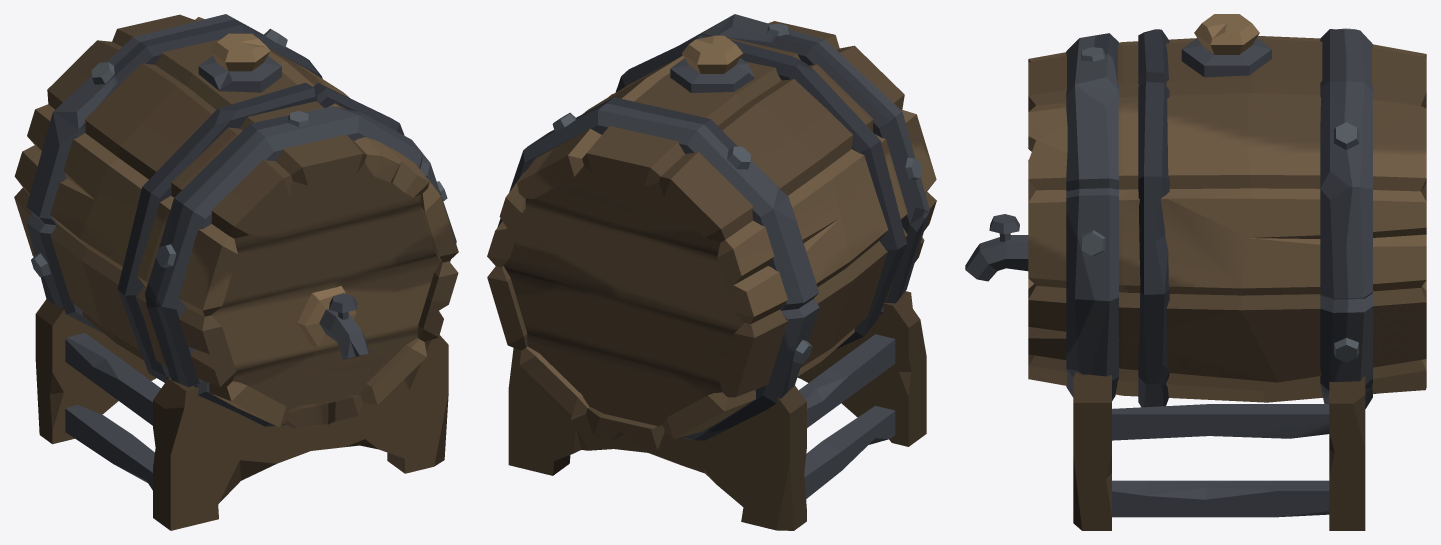
Rendered from SM_Prop_Barrel_05.fbx.
3 renders of one model, left to right at view 1: azimuth 30°, elevation 25°; view 2: azimuth 150°, elevation 25°; view 3: azimuth 270°, elevation 25°, orthographic. The views are drawn at different scales.
Parts seen in each view (by area): view 1: SM_Prop_Barrel_05; view 2: SM_Prop_Barrel_05; view 3: SM_Prop_Barrel_05.
Part boxes in pixels (bbox=[...]): SM_Prop_Barrel_05: bbox=[14, 14, 458, 530]; SM_Prop_Barrel_05: bbox=[487, 14, 936, 530]; SM_Prop_Barrel_05: bbox=[965, 14, 1426, 530].
Bounding box in the file's own units: 61.69 × 77.11 × 74.06.
